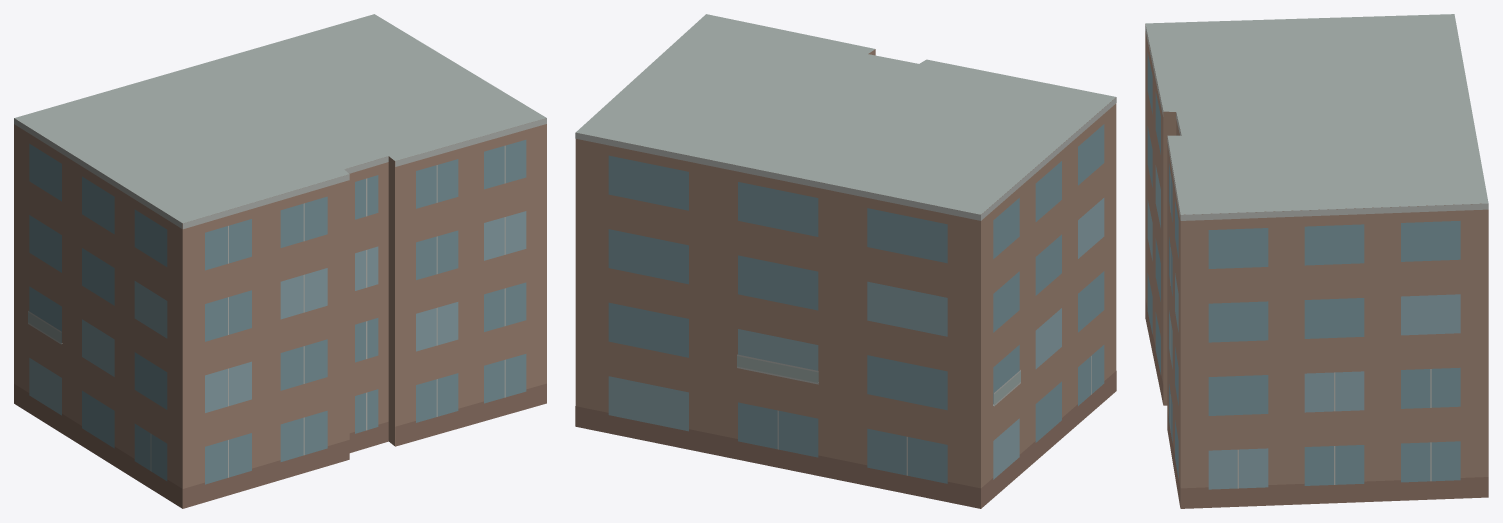
File: survey-upis-32758293.glb
3 renders of one model, left to right at view 1: azimuth 30°, elevation 25°; view 2: azimuth 150°, elevation 25°; view 3: azimuth 270°, elevation 25°, orthographic. The views are drawn at different scales.
Visible parts, largest first — view 1: survey-upis-32758293.tmp; view 2: survey-upis-32758293.tmp; view 3: survey-upis-32758293.tmp.
Boxes of the visible parts, bbox=[...] form: survey-upis-32758293.tmp: bbox=[14, 14, 546, 508]; survey-upis-32758293.tmp: bbox=[575, 14, 1116, 508]; survey-upis-32758293.tmp: bbox=[1145, 14, 1488, 508].
Bounding box in the file's own units: 17.16 × 11.7 × 12.39.
